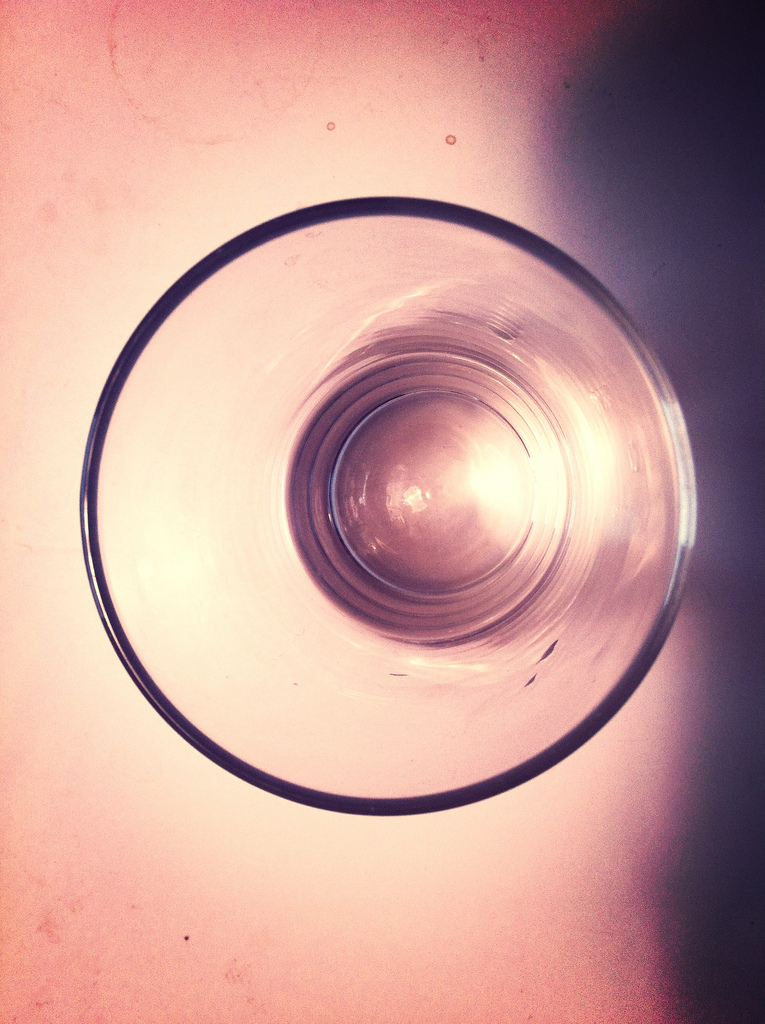glass of water: (83, 182, 700, 820)
